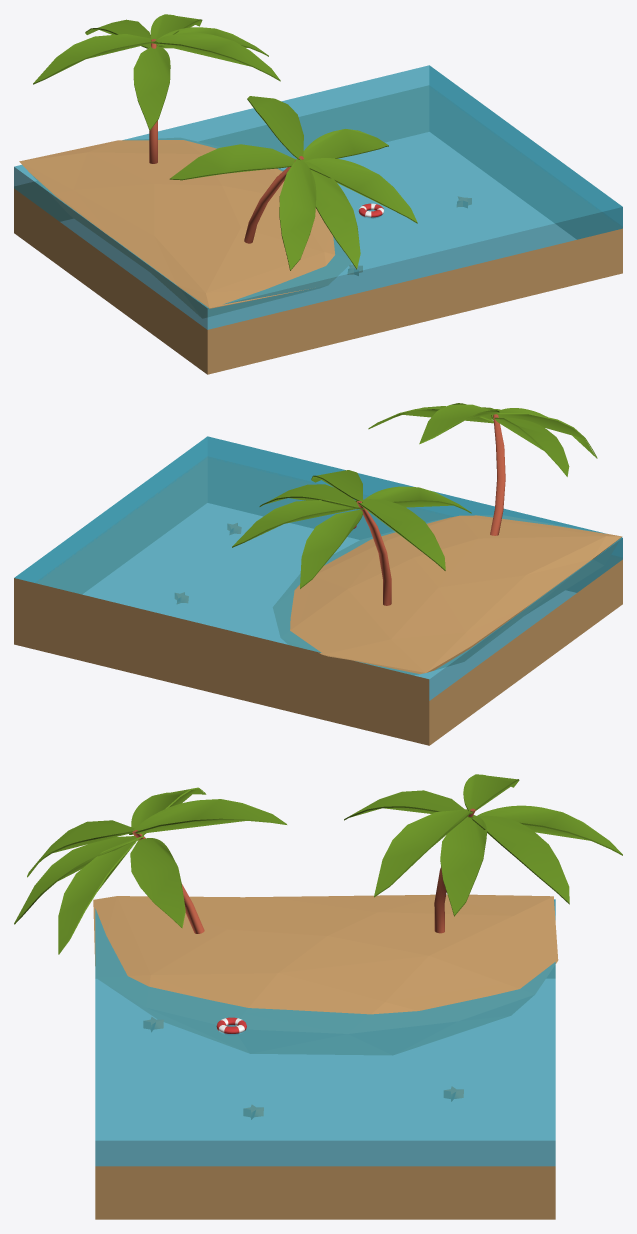
The model's file is 8Fvi_imkoaD.glb.
3 renders of one model, top to bottom at view 1: azimuth 30°, elevation 25°; view 2: azimuth 150°, elevation 25°; view 3: azimuth 270°, elevation 25°, orthographic. The views are drawn at different scales.
Parts seen in each view (by area): view 1: Box001; view 2: Box001; view 3: Box001.
Part boxes in pixels (left/top/right/bottom): Box001: left=14, top=14, right=622, bottom=374; Box001: left=14, top=403, right=622, bottom=745; Box001: left=14, top=774, right=622, bottom=1219.
Size of the model in its own units: 2.17 by 1 by 2.31.
